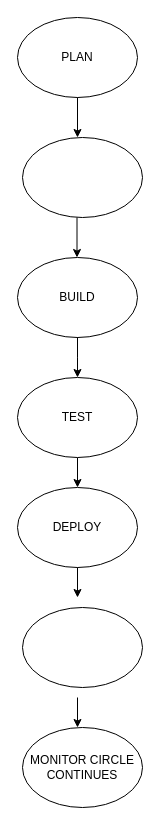
The diagram is 160 pixels wide and 825 high, and some of its shapes have lost their labels. Each missing label, with the centre of its shape:
"DEVELOP" goes at (82,177).
"MONITOR" goes at (82,647).
